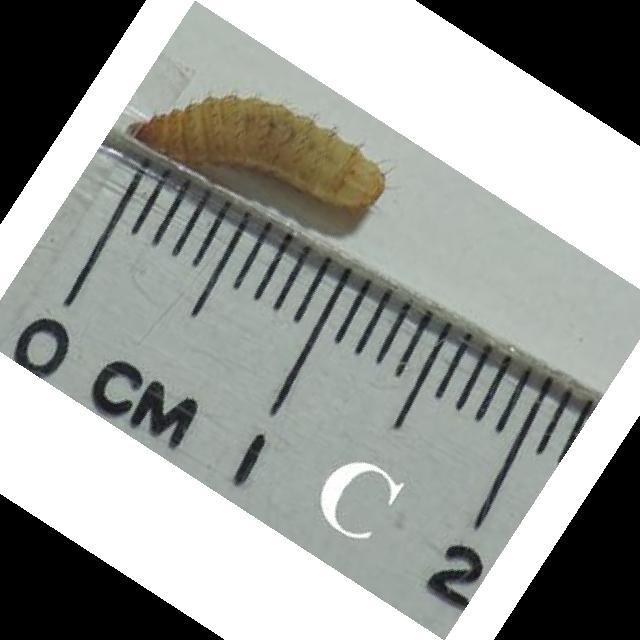Maggot: (127, 94, 386, 210)
